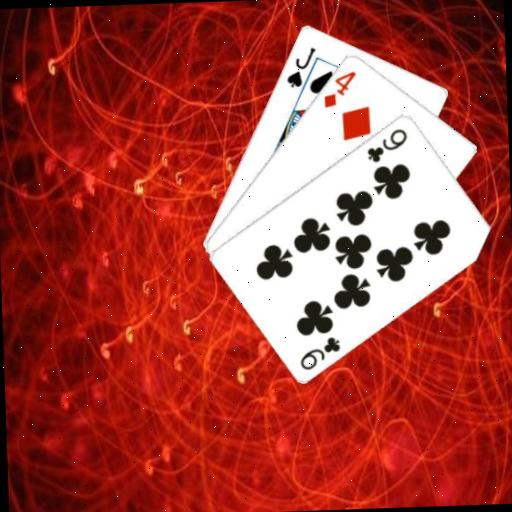4D: (318, 67, 358, 109)
9C: (362, 124, 409, 164), (296, 333, 343, 372)
JS: (281, 44, 318, 89)
